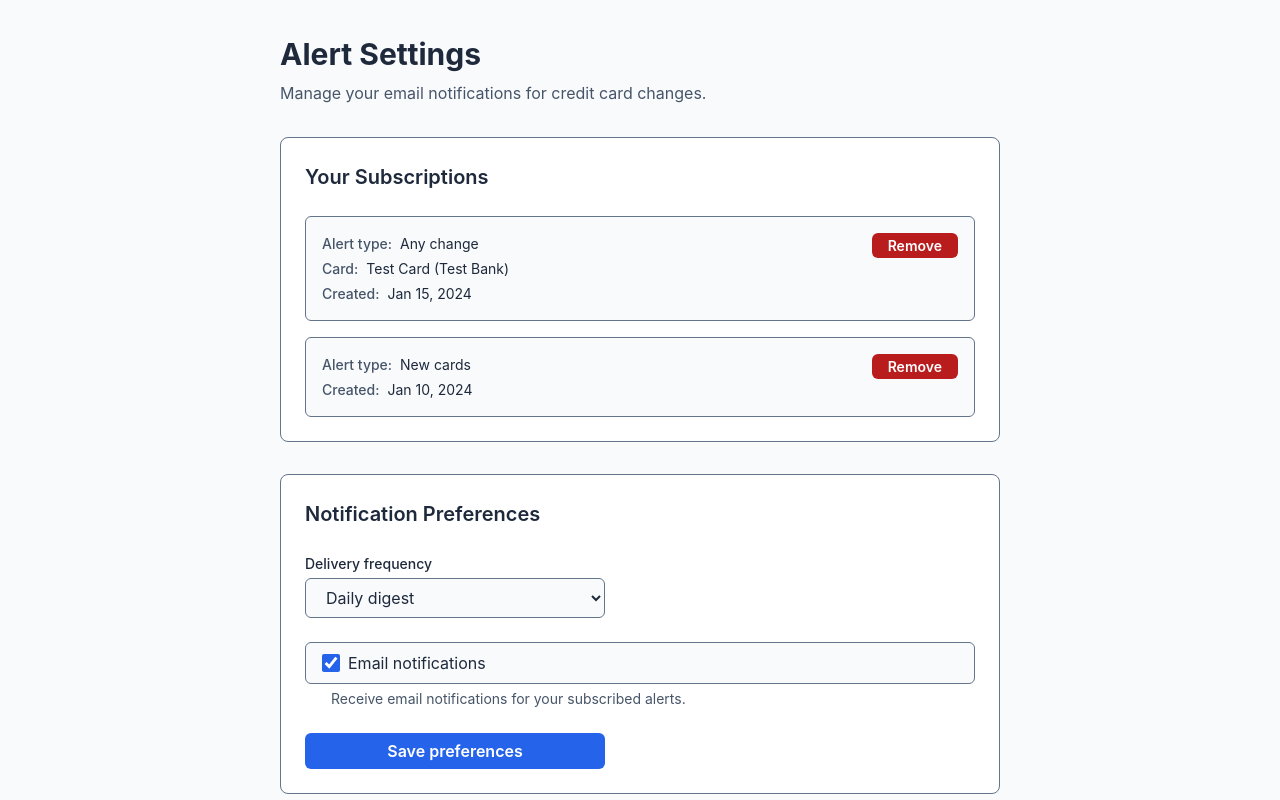
AlertsPage › shows toast on successful save
The image size is (1280, 800).
Click the button "Save preferences": (455, 751) [305,733,605,769]
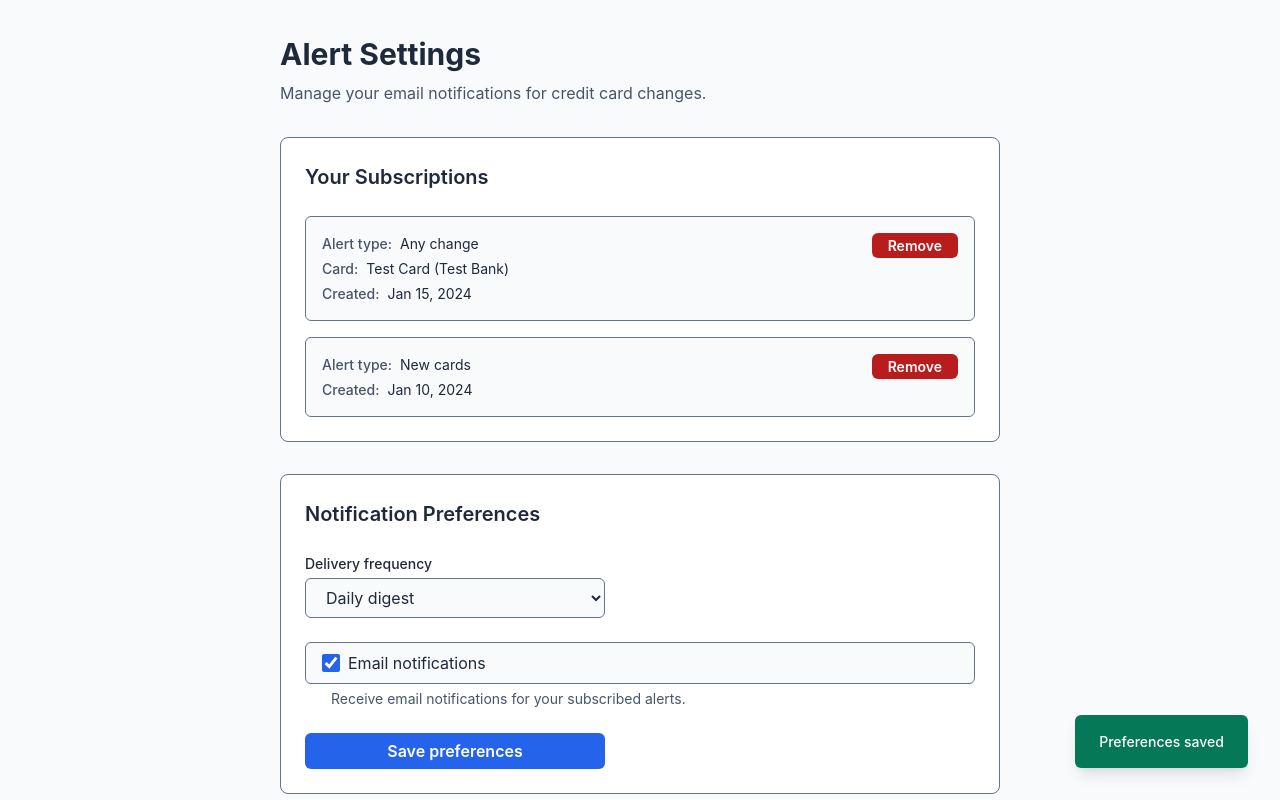
Check: the text "Preferences saved" is shown, box [1075,715,1248,768]
